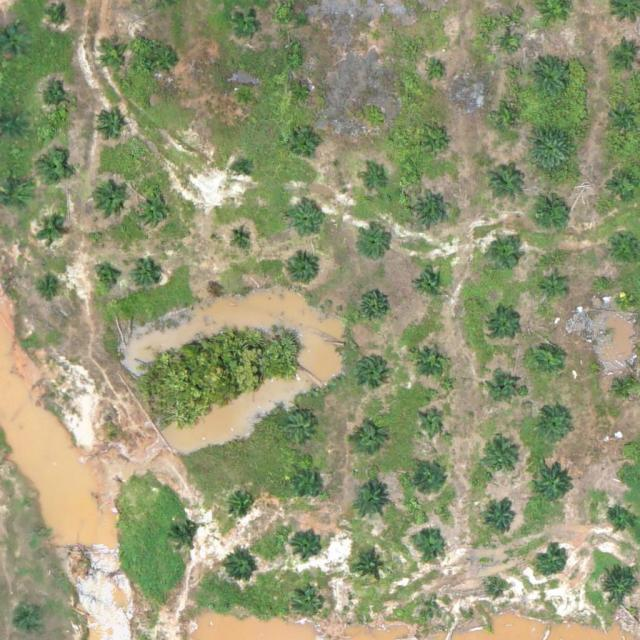Small: (527, 54, 574, 102), (529, 190, 576, 238), (529, 125, 576, 173), (352, 483, 392, 523), (534, 462, 573, 502), (483, 439, 522, 479), (485, 162, 524, 202), (412, 340, 451, 380), (287, 200, 326, 240), (599, 565, 638, 605), (93, 180, 132, 220), (134, 192, 174, 231), (532, 406, 571, 445), (413, 191, 452, 230), (284, 252, 323, 291), (153, 45, 184, 77), (414, 526, 445, 558), (416, 464, 447, 496), (353, 424, 384, 456), (360, 228, 391, 260), (286, 415, 317, 447), (293, 467, 324, 499), (293, 528, 324, 560), (356, 552, 387, 584), (358, 291, 389, 323), (415, 269, 446, 301), (291, 126, 322, 158), (99, 41, 130, 73), (486, 505, 517, 536), (536, 546, 567, 577), (490, 370, 521, 401), (492, 241, 523, 272), (490, 310, 521, 341), (608, 230, 639, 261), (608, 170, 639, 201), (531, 345, 562, 376), (356, 356, 387, 387), (225, 553, 256, 584), (18, 602, 49, 633), (606, 507, 637, 538), (295, 591, 326, 622), (227, 488, 258, 519), (170, 523, 201, 554), (609, 99, 640, 130), (41, 86, 72, 117), (40, 154, 71, 185), (96, 112, 127, 143), (133, 260, 164, 291), (233, 8, 264, 39), (540, 275, 564, 299), (361, 169, 385, 193), (39, 219, 63, 243), (40, 276, 64, 300), (94, 265, 118, 289), (427, 134, 450, 158), (420, 411, 443, 435), (231, 226, 254, 250), (234, 86, 258, 109), (3, 115, 26, 139), (292, 82, 315, 106), (489, 579, 505, 595), (503, 111, 518, 127), (616, 293, 632, 308), (620, 440, 636, 455), (370, 30, 385, 46), (430, 600, 445, 616), (502, 38, 517, 53), (429, 65, 444, 80), (235, 162, 250, 177), (52, 8, 67, 23)
